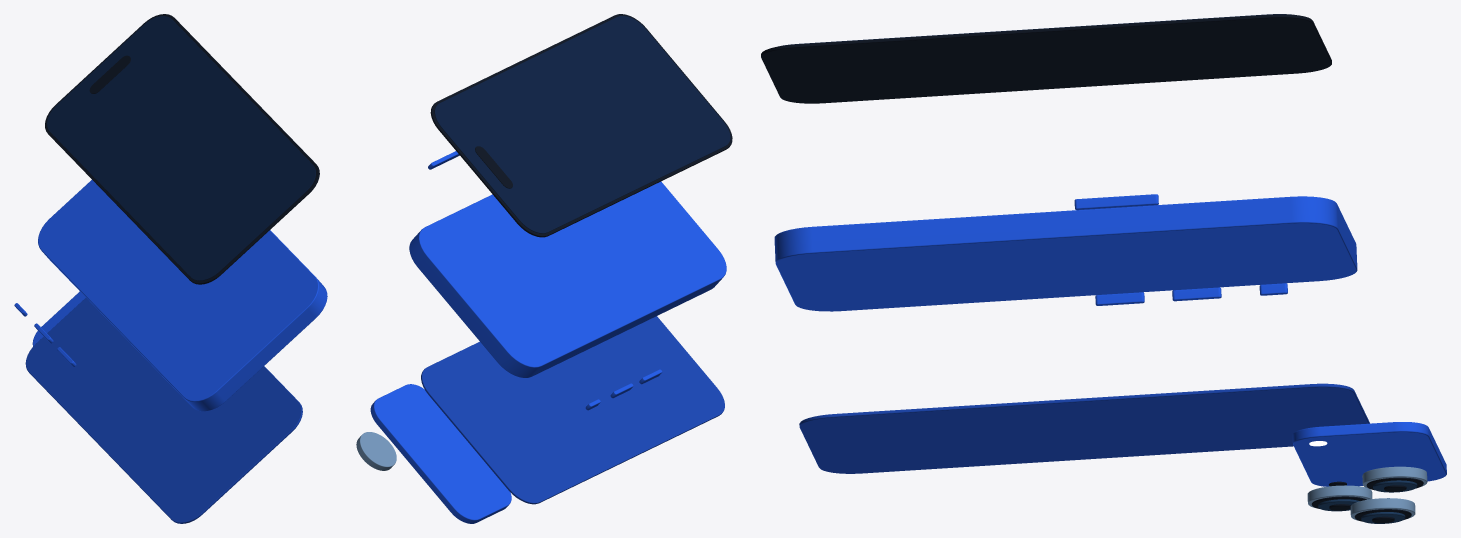
Rendered from elixir.glb.
3 renders of one model, left to right at view 1: azimuth 30°, elevation 25°; view 2: azimuth 150°, elevation 25°; view 3: azimuth 270°, elevation 25°, orthographic. The views are drawn at different scales.
Parts seen in each view (by area): view 1: 04 Active display, 01 Titanium chassis, 02 Satin blue rear glass, 03 OLED glass, 05 Camera plateau, Dynamic island; view 2: 04 Active display, 01 Titanium chassis, 02 Satin blue rear glass, 05 Camera plateau, 03 OLED glass, 2 Titanium ring, Dynamic island; view 3: 01 Titanium chassis, 03 OLED glass, 02 Satin blue rear glass, 05 Camera plateau, Side control.002, 2 Titanium ring, 0 Titanium ring, 1 Titanium ring.
Boxes of the visible parts, x1,y1,x2,y2 form: 04 Active display: [47, 16, 315, 280]; 01 Titanium chassis: [38, 180, 327, 411]; 02 Satin blue rear glass: [25, 298, 302, 523]; 03 OLED glass: [45, 14, 319, 284]; 05 Camera plateau: [32, 291, 85, 346]; Dynamic island: [89, 55, 130, 93]; 04 Active display: [434, 16, 730, 233]; 01 Titanium chassis: [409, 181, 726, 377]; 02 Satin blue rear glass: [421, 316, 724, 504]; 05 Camera plateau: [370, 384, 511, 523]; 03 OLED glass: [430, 14, 732, 237]; 2 Titanium ring: [356, 432, 396, 470]; Dynamic island: [475, 146, 512, 188]; 01 Titanium chassis: [774, 196, 1357, 311]; 03 OLED glass: [761, 14, 1331, 103]; 02 Satin blue rear glass: [799, 383, 1369, 473]; 05 Camera plateau: [1292, 422, 1446, 486]; Side control.002: [1074, 194, 1158, 210]; 2 Titanium ring: [1350, 498, 1415, 520]; 0 Titanium ring: [1362, 466, 1427, 489]; 1 Titanium ring: [1307, 485, 1372, 507].
Size of the model in its own units: 0.1032 by 0.176 by 0.1951.
